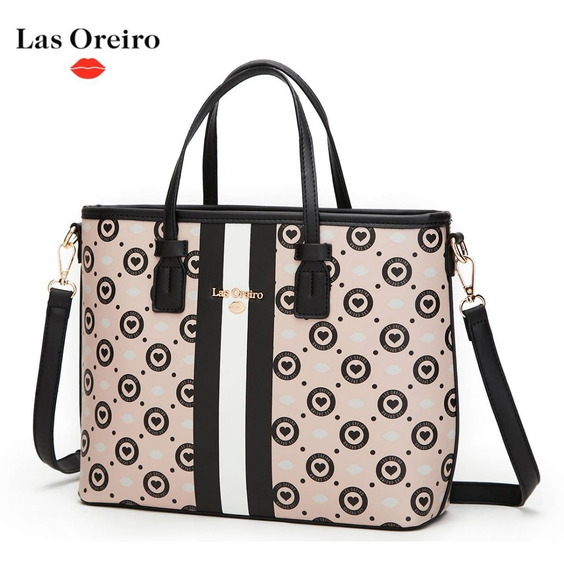cartera: (27, 59, 544, 534)
